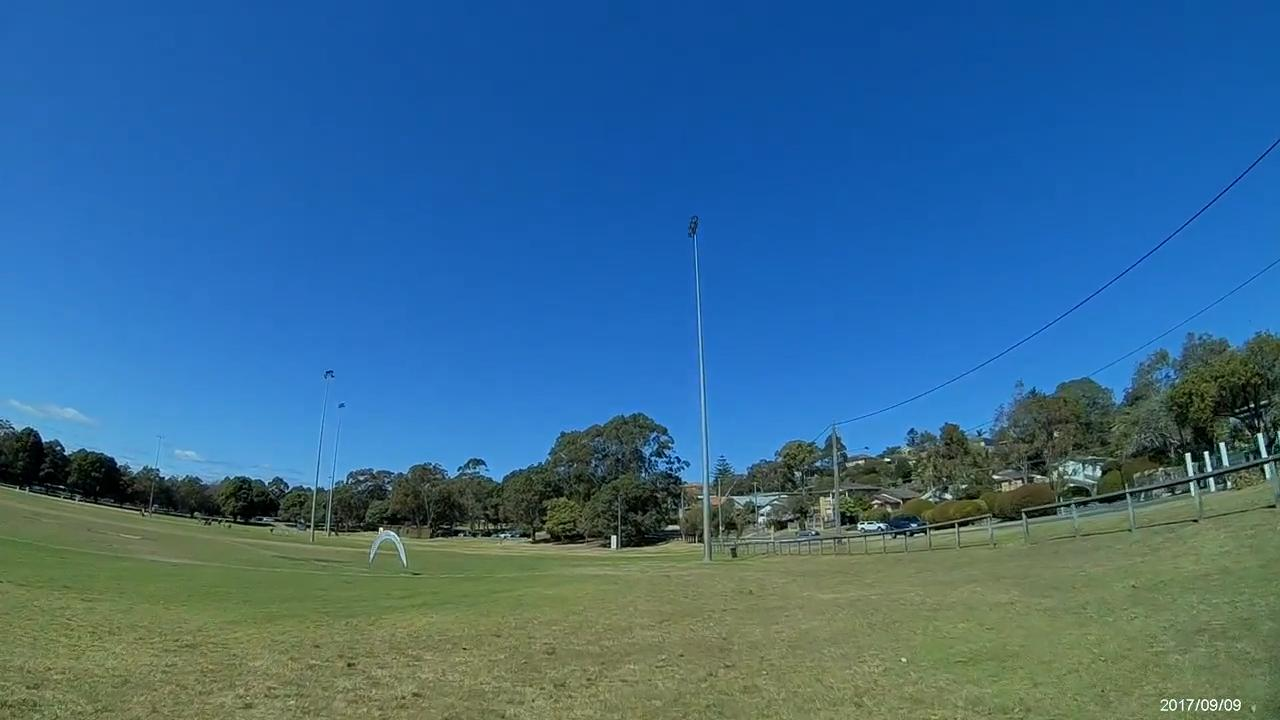gate: (369, 529, 408, 570)
